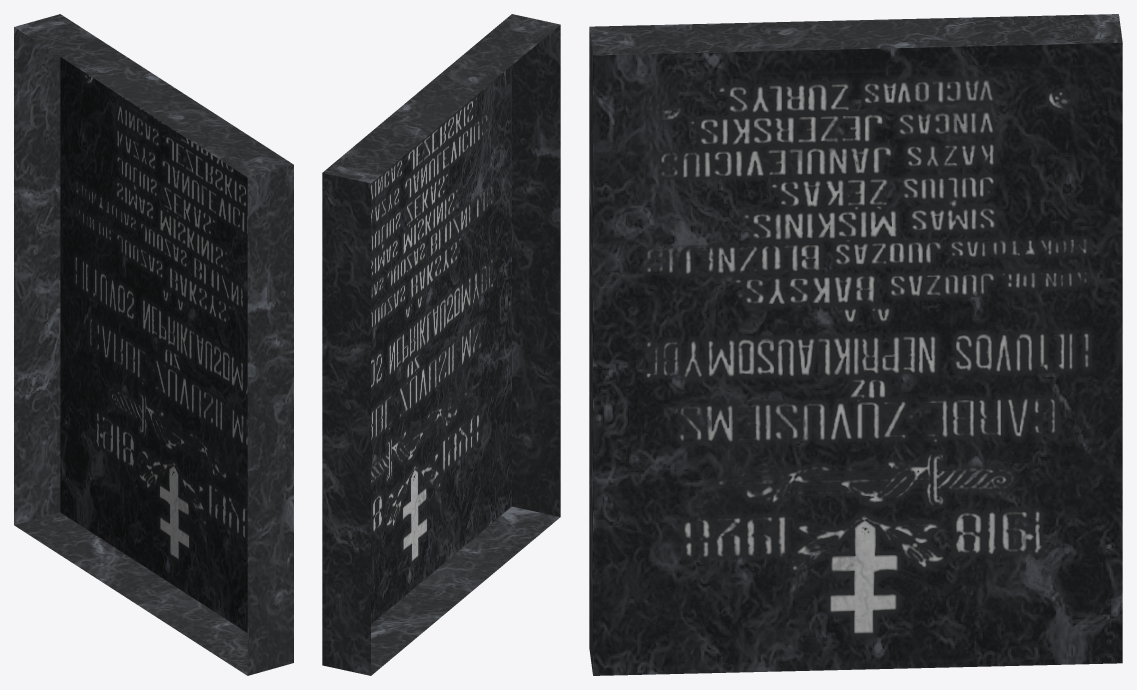
3 views of the same model, side by side, from view 1: azimuth 30°, elevation 25°; view 2: azimuth 150°, elevation 25°; view 3: azimuth 270°, elevation 25° (orthographic). The views are drawn at different scales.
Visible parts, largest first — view 1: Nuotrauka_A; view 2: Nuotrauka_A; view 3: Nuotrauka_A.
Part boxes in pixels (<box>): Nuotrauka_A: <box>14,14,293,675</box>; Nuotrauka_A: <box>322,14,560,675</box>; Nuotrauka_A: <box>589,14,1122,675</box>.
Size of the model in its own units: 23.8 by 165 by 129.
1 material, 1 textured.
